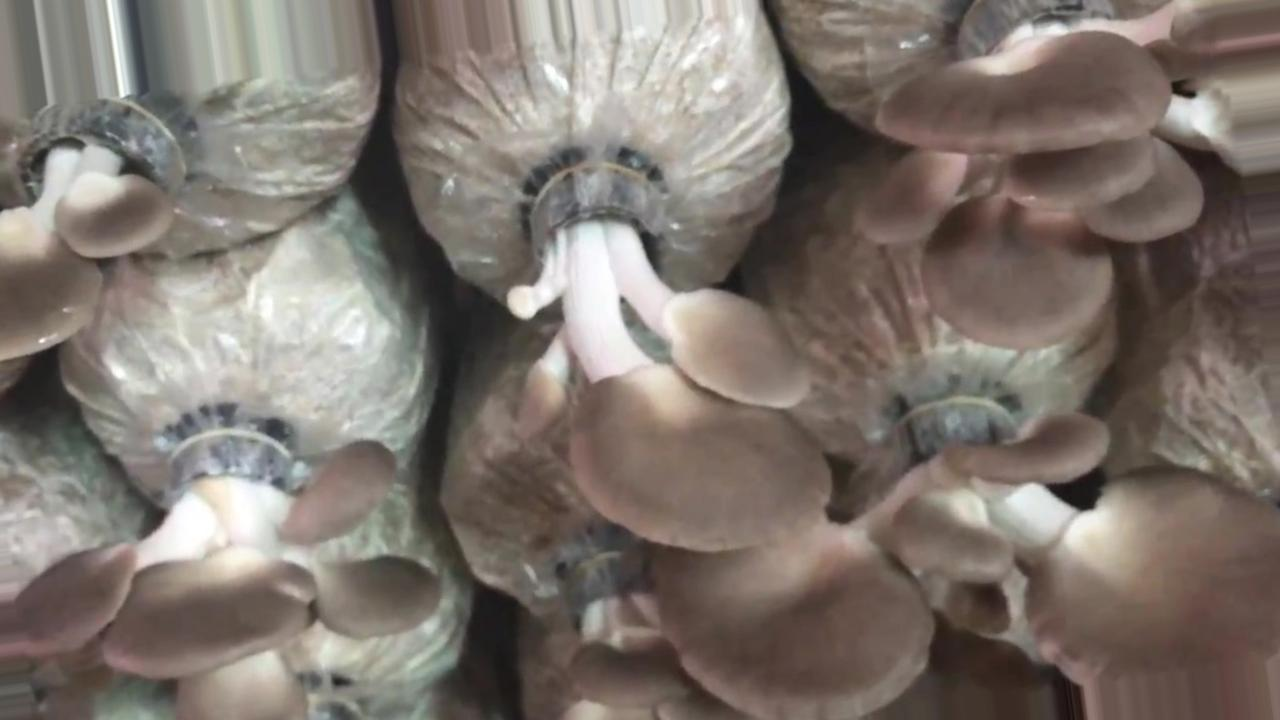nam: (656, 389, 1280, 717), (849, 1, 1275, 356), (503, 142, 831, 552), (1, 421, 442, 716), (1, 93, 192, 360), (532, 532, 751, 720)
